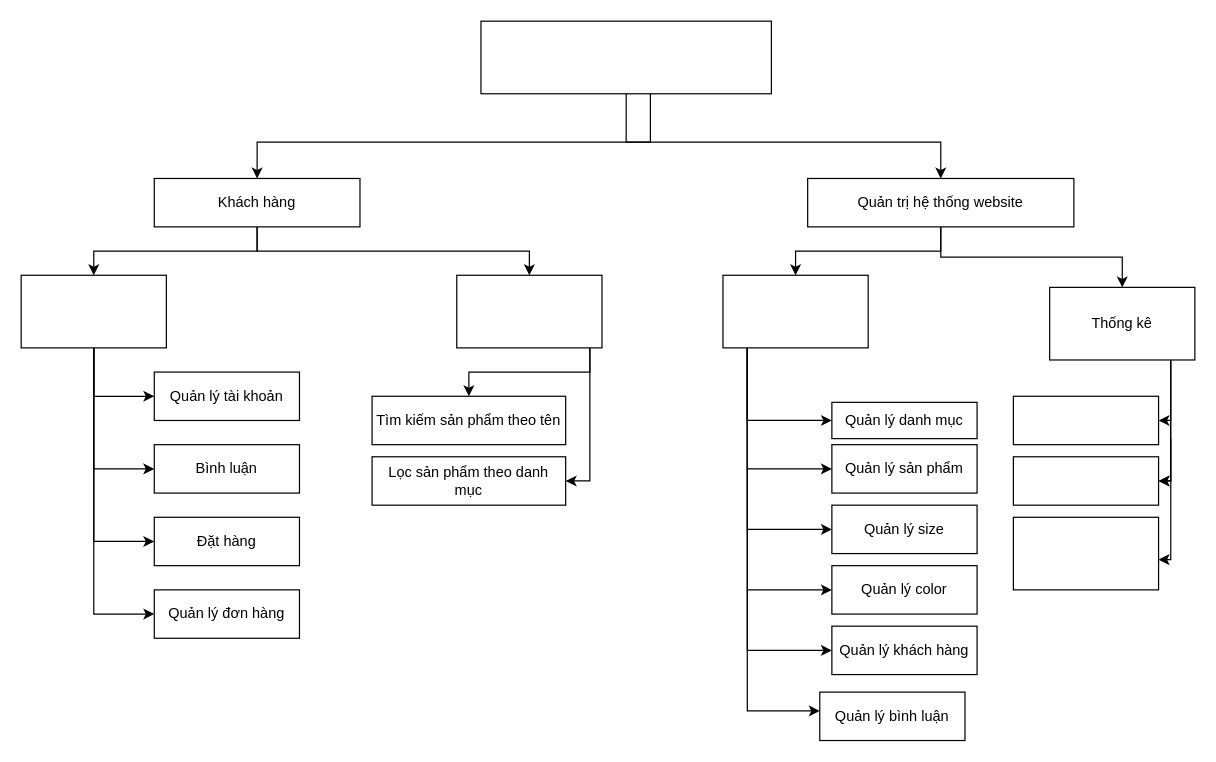
Image size: 1216x762. Some labels were removed from this diagram. The box of each missing label's shape, as (x1, y1, x2, y2) in pixels:
Chức năng: (20, 274, 166, 348)
Doanh thu: (1012, 456, 1159, 505)
Hệ thống website bán áo thời trang: (480, 20, 771, 94)
Quản lý: (722, 274, 868, 348)
Thống kê sản phẩm theo loại: (1012, 516, 1159, 590)
Tìm kiếm: (456, 274, 602, 348)
Tổng số đơn hàng: (1012, 395, 1159, 445)
